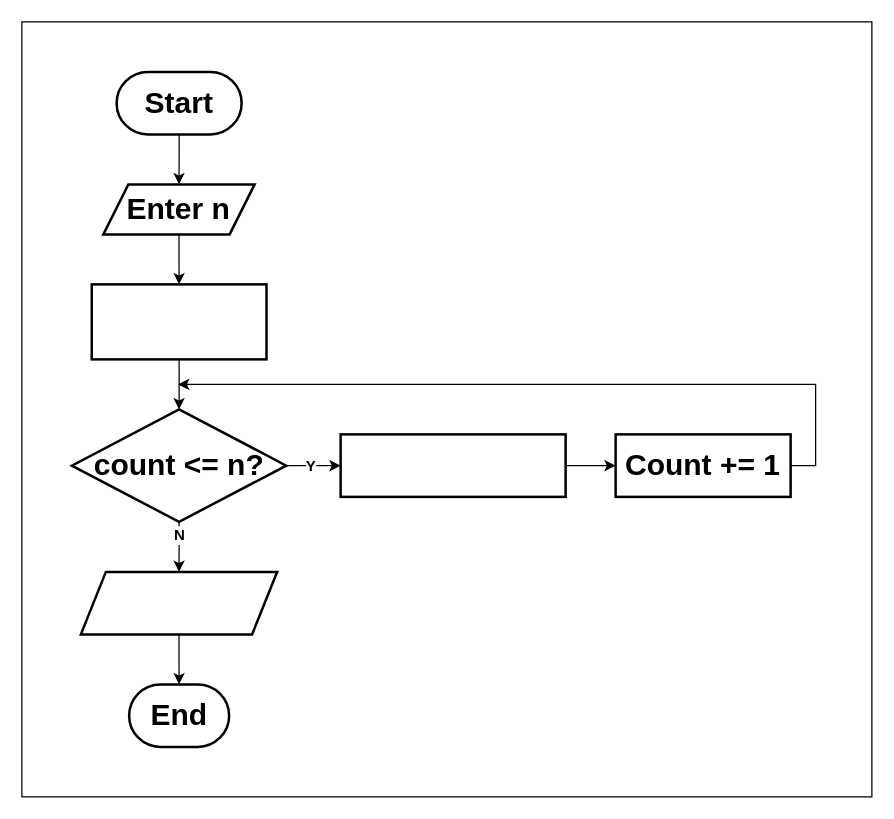
The diagram is 894 pixels wide and 819 high, and some of its shapes have lost their labels. The centre of each missing label's shape, as x and y in pixels:
"Count = 1 Sum = 0" goes at (178,321).
"Print Sum" goes at (178,602).
"Sum += Count" goes at (452,465).
